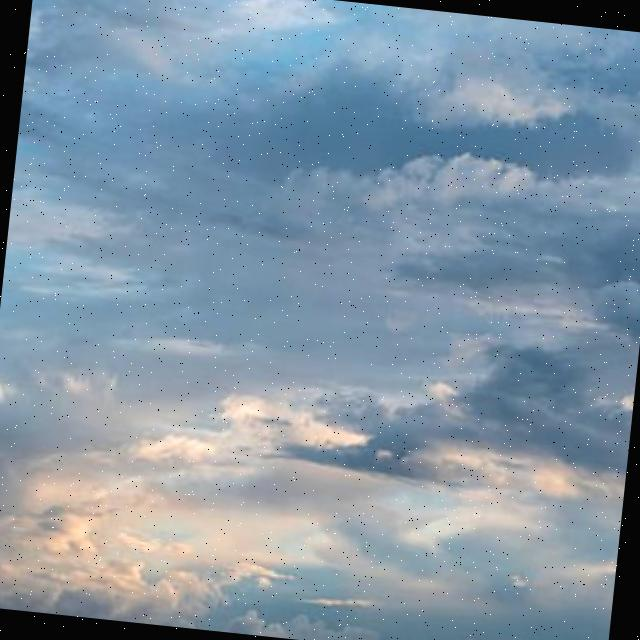As: (1, 3, 640, 636)
